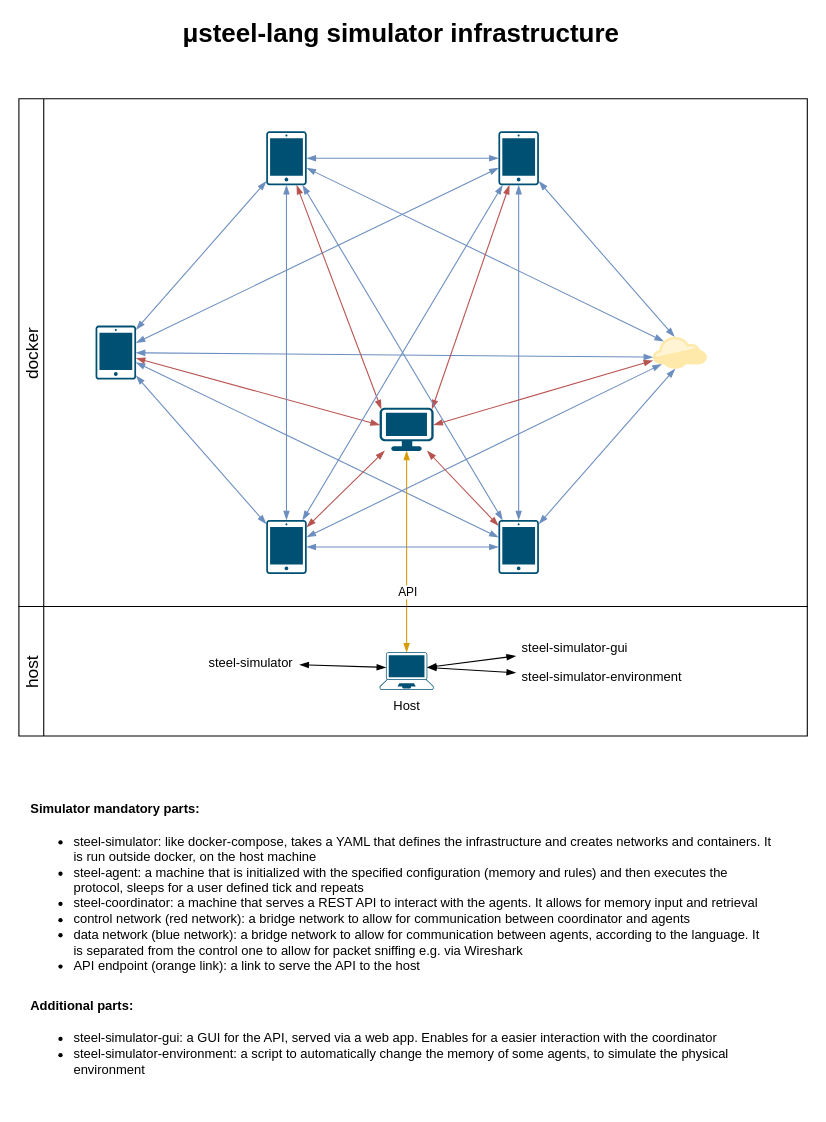
Image size: 826x1122. Some labels were removed from this diagram. Each missing label, with the centre of its shape:
"Coordinator" goes at [406,428].
"Other agents" goes at [679,352].
